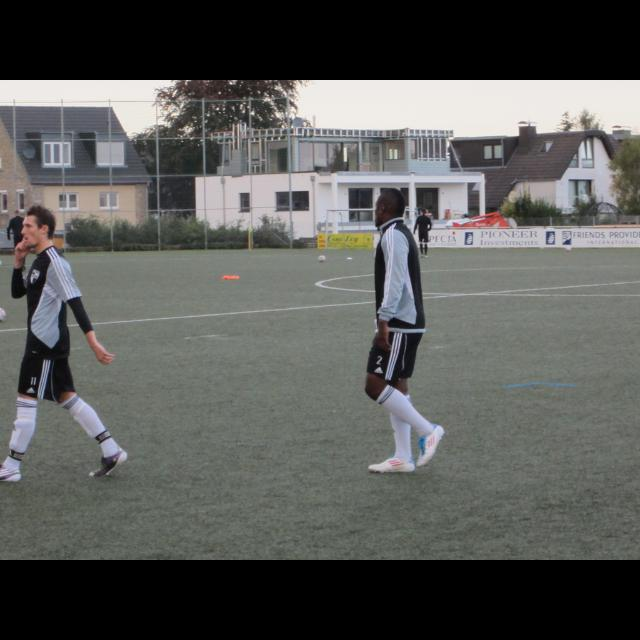Football: (316, 254, 324, 262)
